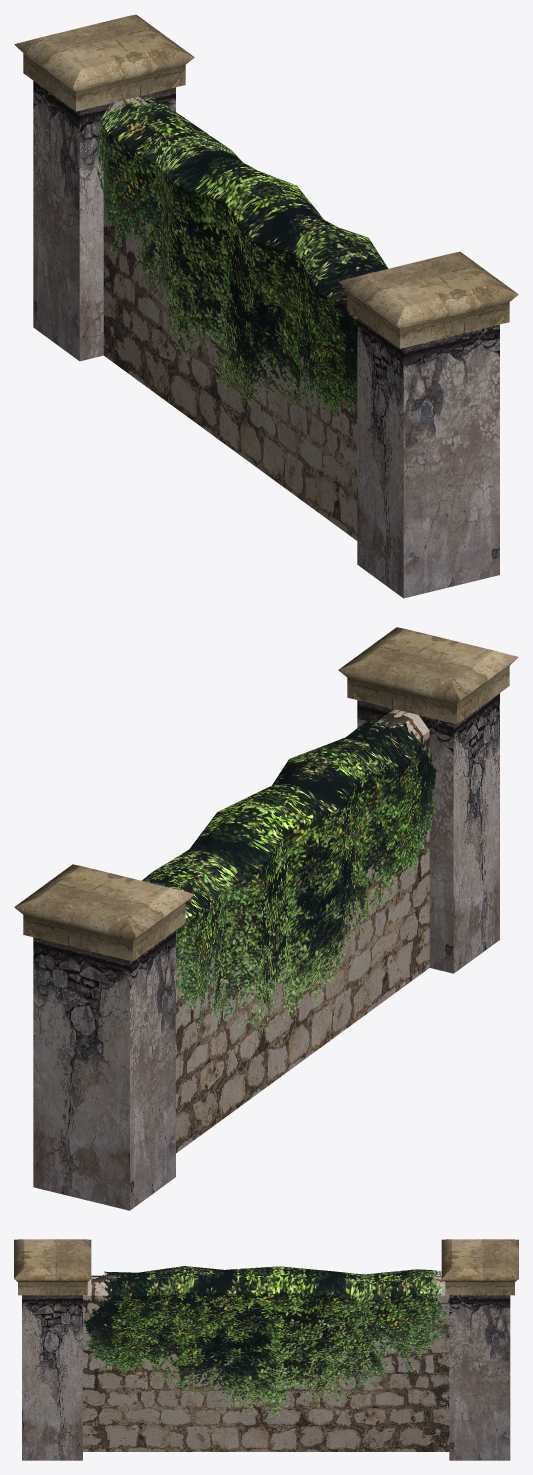
File: Wall_Segment_01.fbx
The picture shows the model from 3 angles, top to bottom: view 1: azimuth 30°, elevation 25°; view 2: azimuth 150°, elevation 25°; view 3: azimuth 270°, elevation 25°; orthographic projection. The views are drawn at different scales.
Parts seen in each view (by area): view 1: Wall_Segment; view 2: Wall_Segment; view 3: Wall_Segment.
Part boxes in pixels (x1,y1,x2,y2): Wall_Segment: (14,14,518,598); Wall_Segment: (14,627,518,1210); Wall_Segment: (14,1239,518,1460).
Size of the model in its own units: 1.53 by 3.45 by 8.27.
